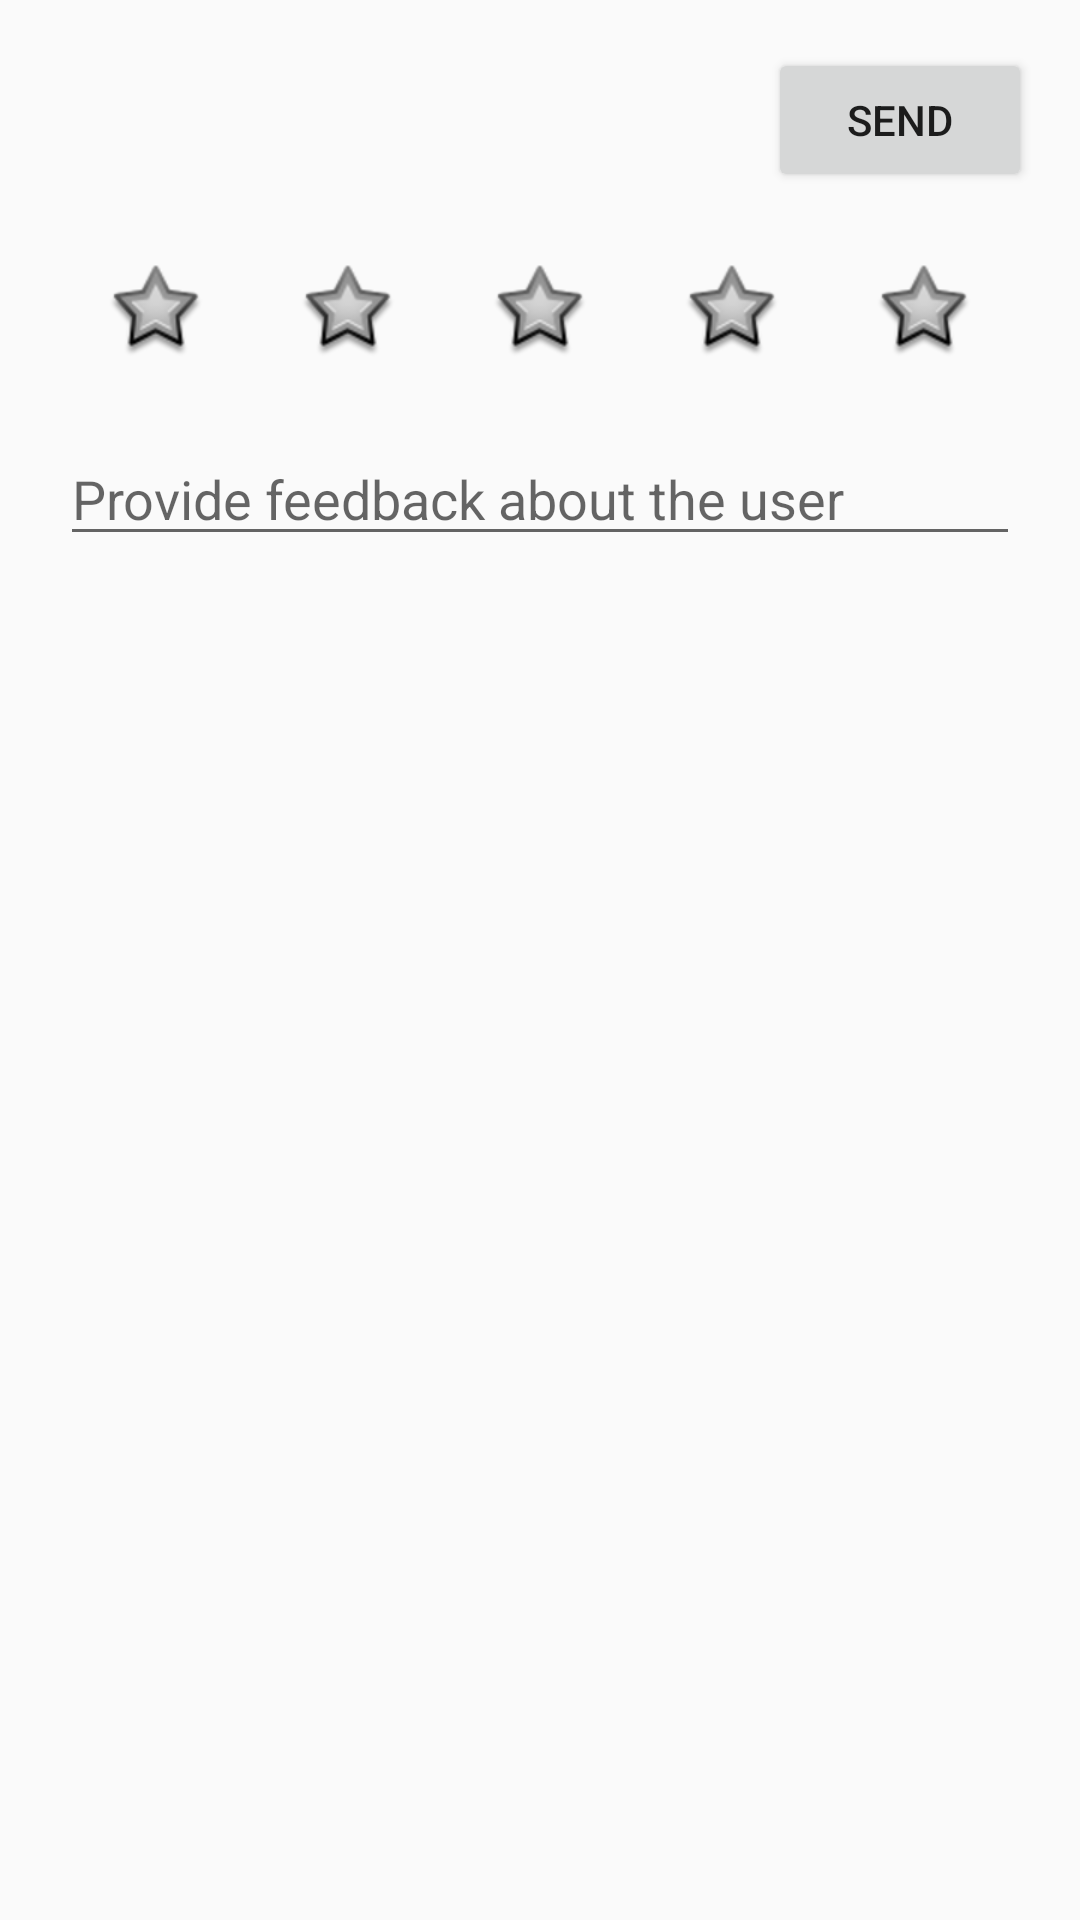

Icon click points for this 1080 × 1920 phone screenshot, format [x,y]:
star off: [156,308], [348,308], [540,308], [732,308], [924,308]
